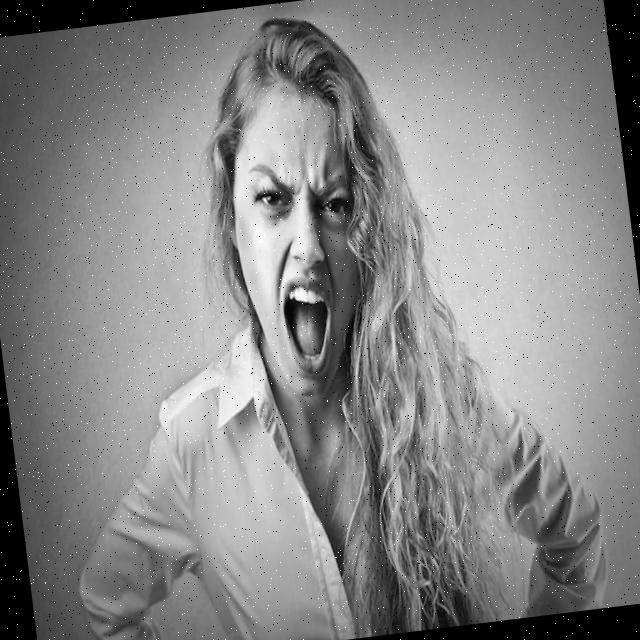Angry: (220, 86, 380, 402)
